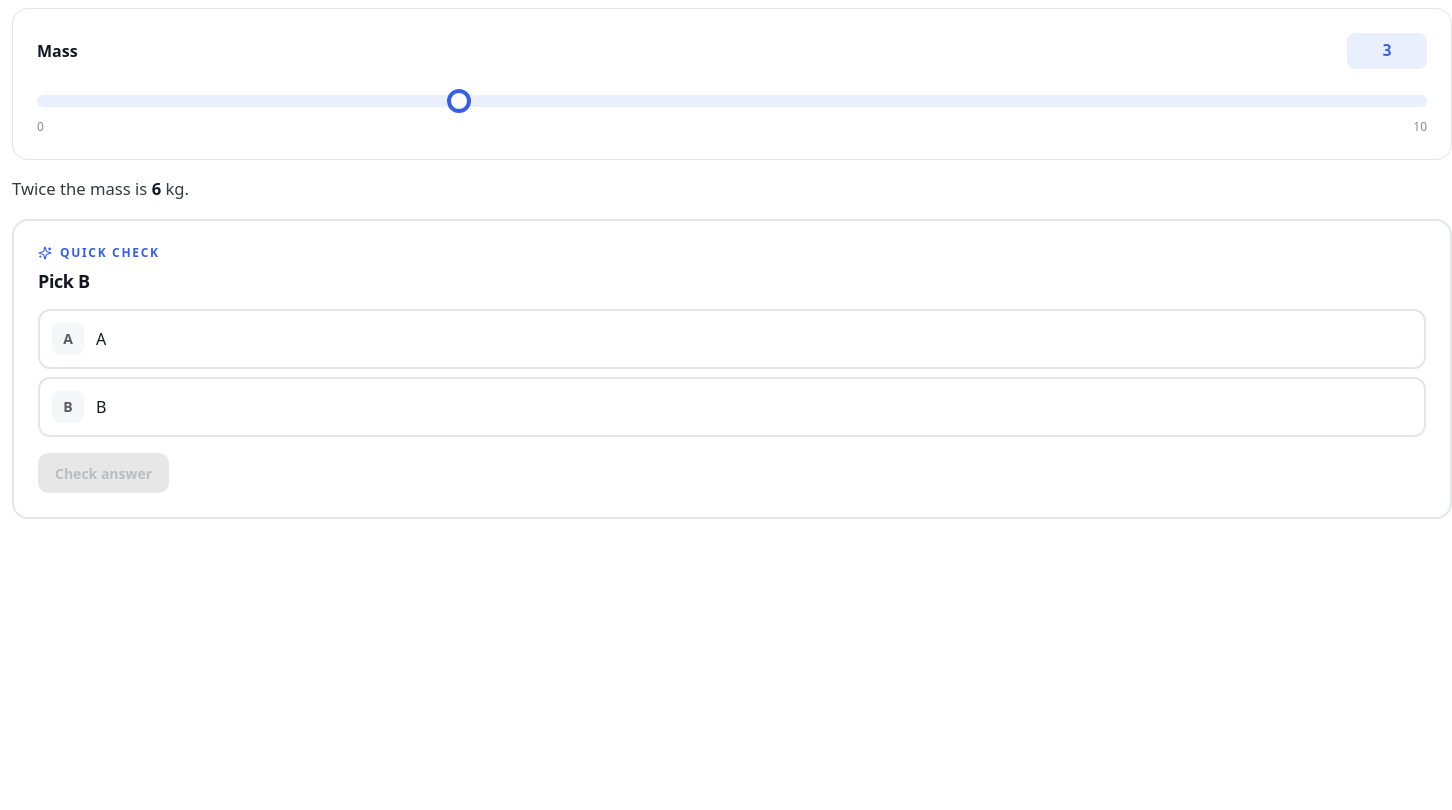
Scenario: BlockRenderer with lesson variables › checks quiz answers
Click the radio button labelled "A A" at (68, 339), box [38,310,1426,370]
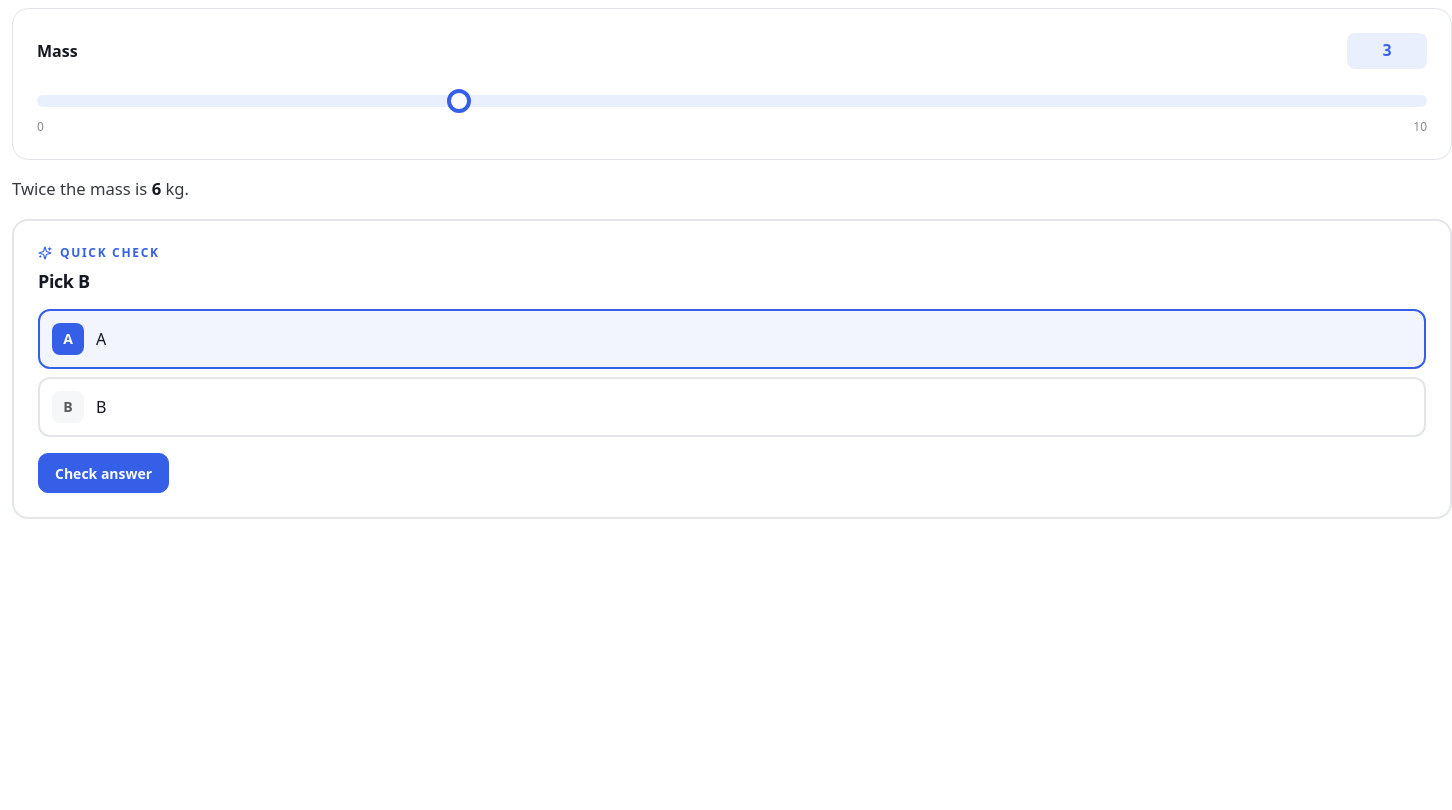
Click the button "Check answer" at (104, 474), box [38,454,169,494]
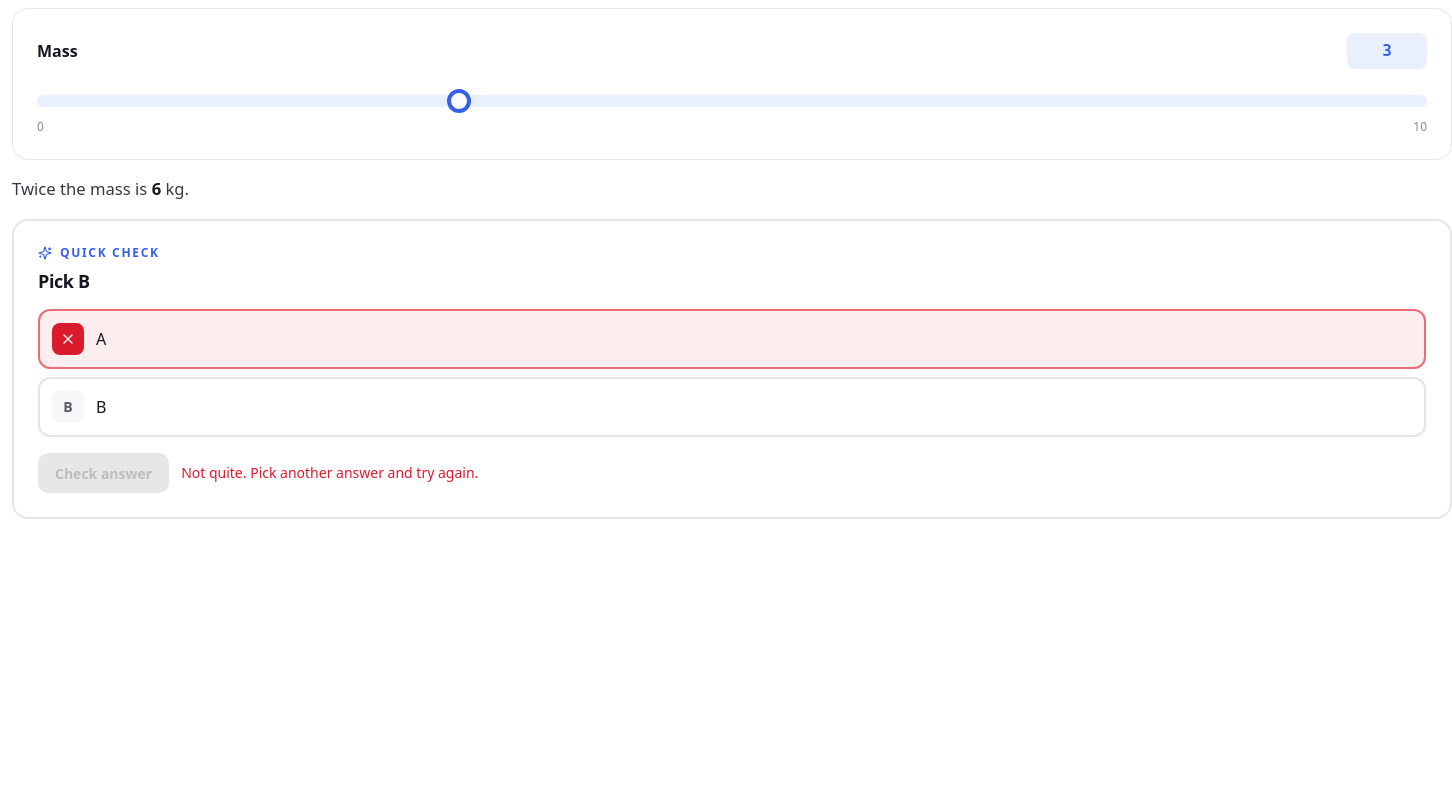
Now the text "Not quite. Pick another answer and try again." is shown, box [181,464,478,484]
Click the radio button labelled "B B" at (68, 407), box [38,378,1426,438]
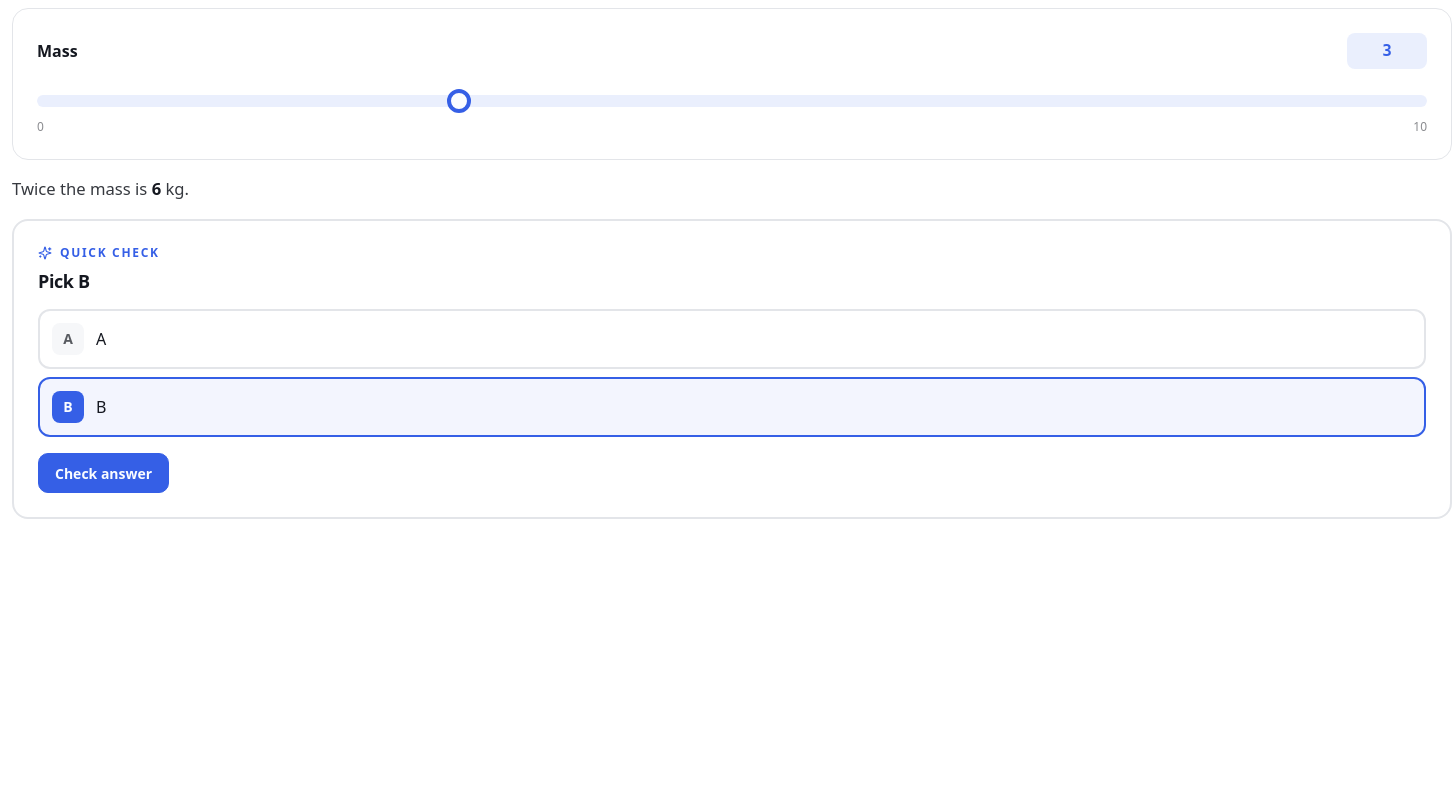
Click the button "Check answer" at (104, 474), box [38,454,169,494]
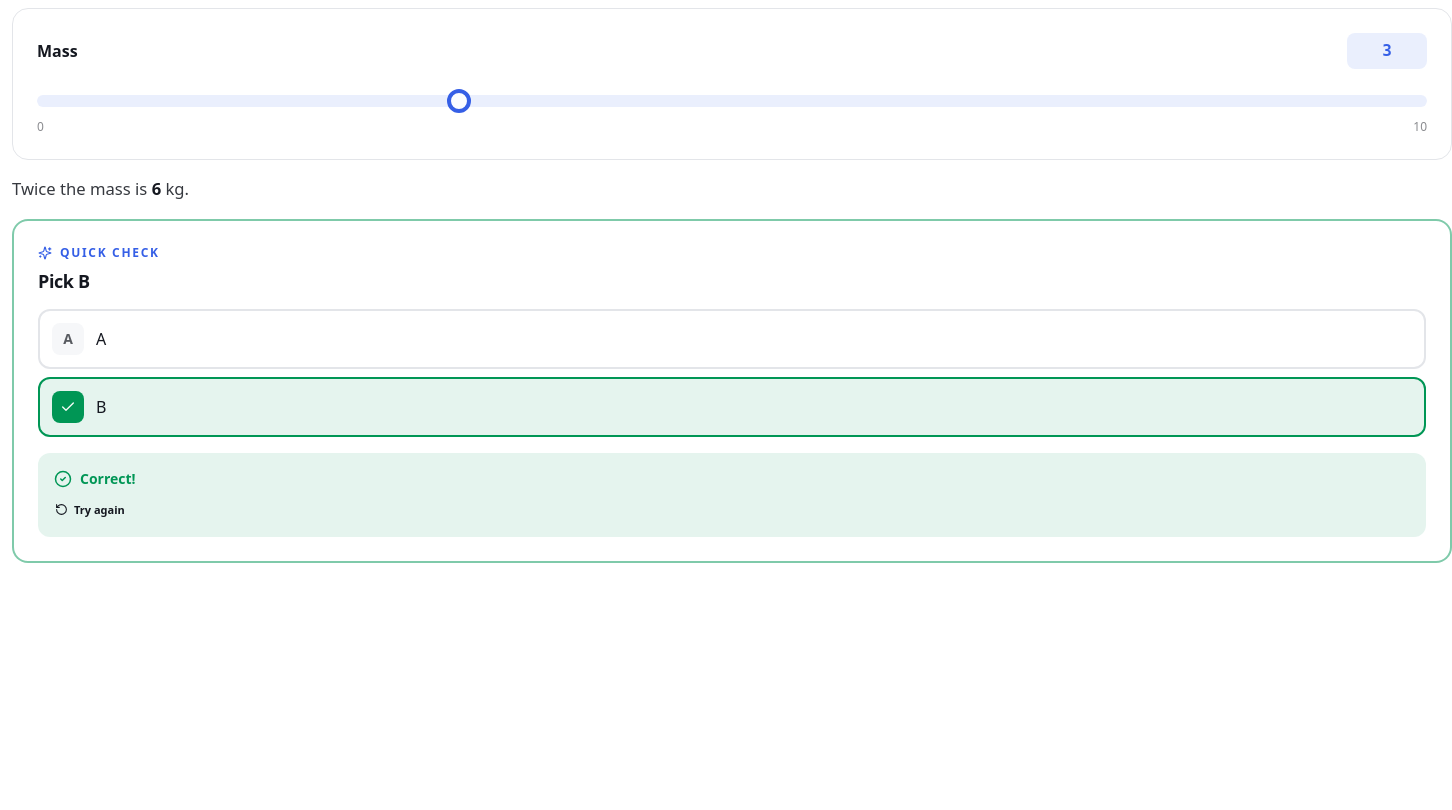
Now the text "Correct!" is shown, box [54,470,136,488]
